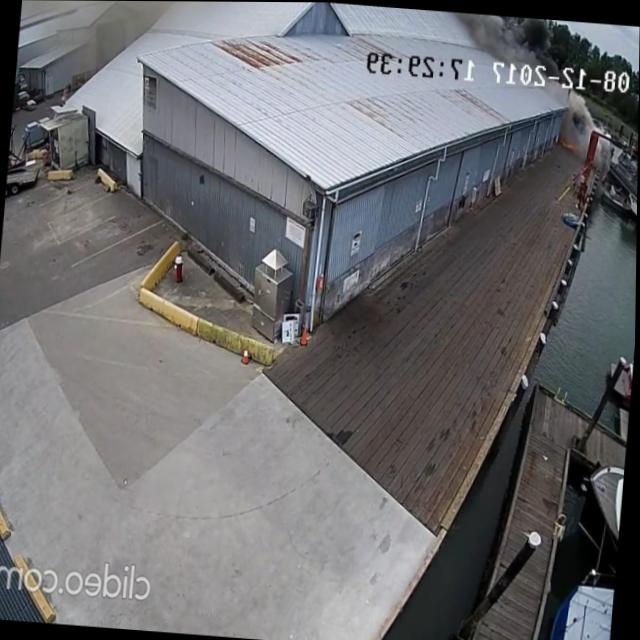fire: (559, 140, 575, 148)
